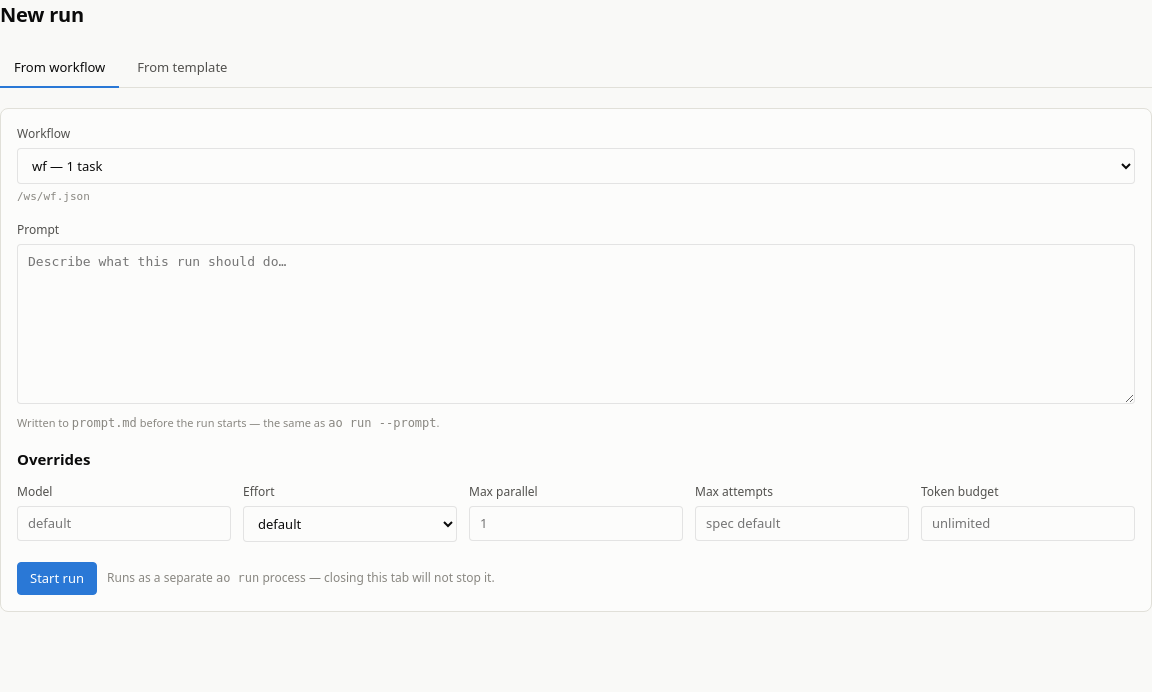
Scenario: NewRun launch flow (classic) › started: Start another clears the prompt and the panel
In the text box labelled "Prompt": {"x": 576, "y": 324} [17,244,1135,404], type "keep me"
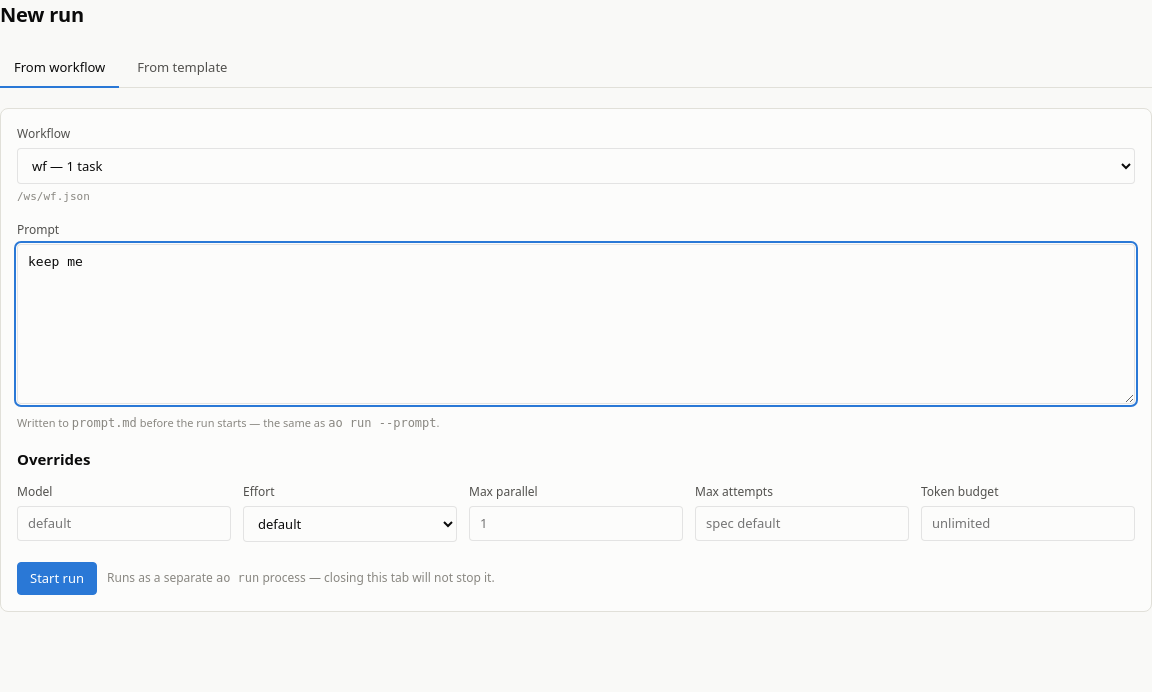
Click the button "Start run": {"x": 57, "y": 578} [17,562,97,595]
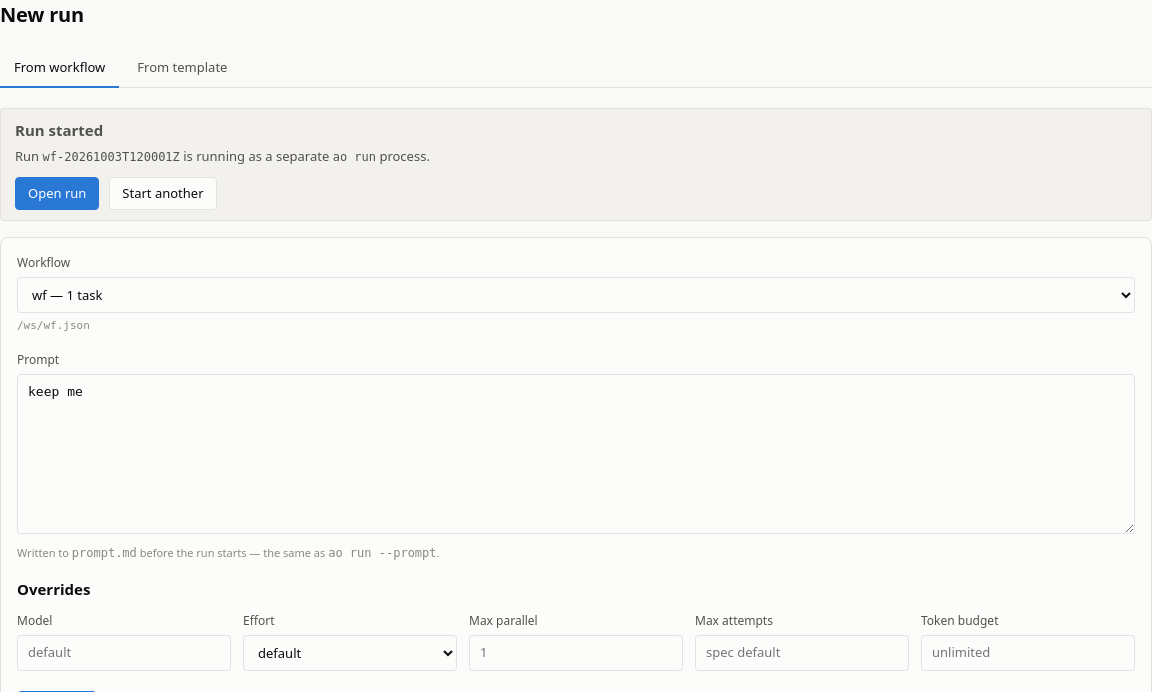
Now the heading "Run started" is shown, box [15,120,103,140]
Click the button "Start another": {"x": 163, "y": 193} [109,176,216,210]
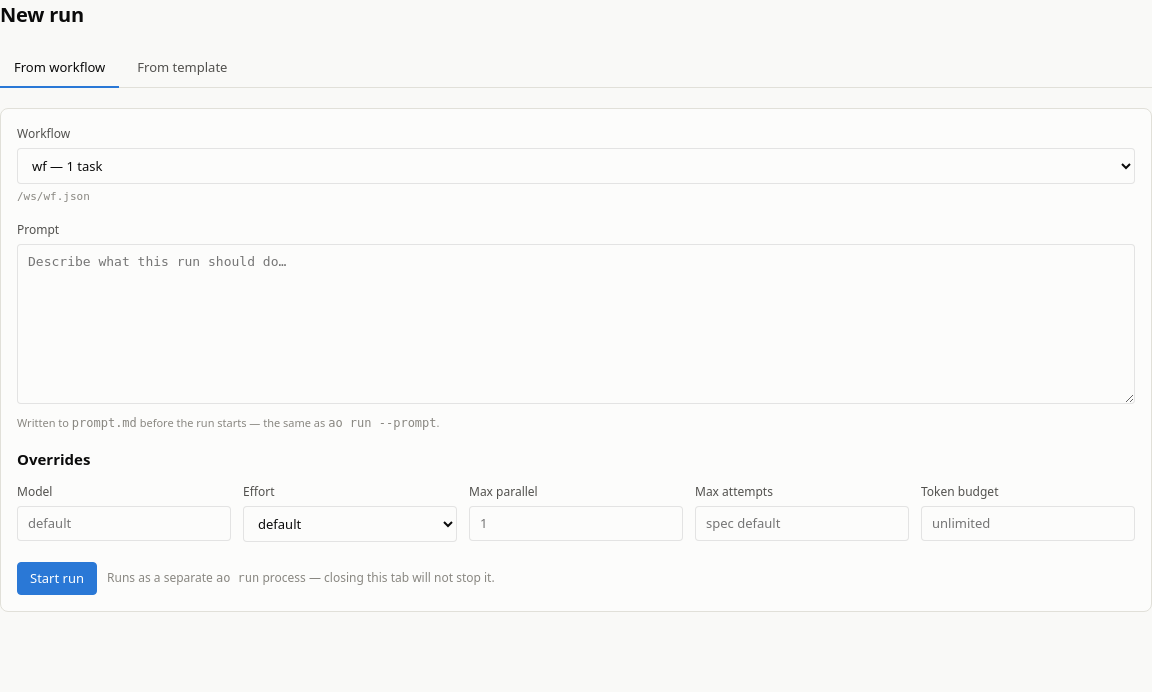
Now the heading "Run started" is gone
Now the text box labelled "Prompt" is empty, box [17,244,1135,404]
